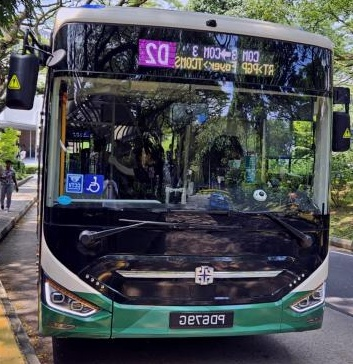bus: (139, 37, 174, 69)
